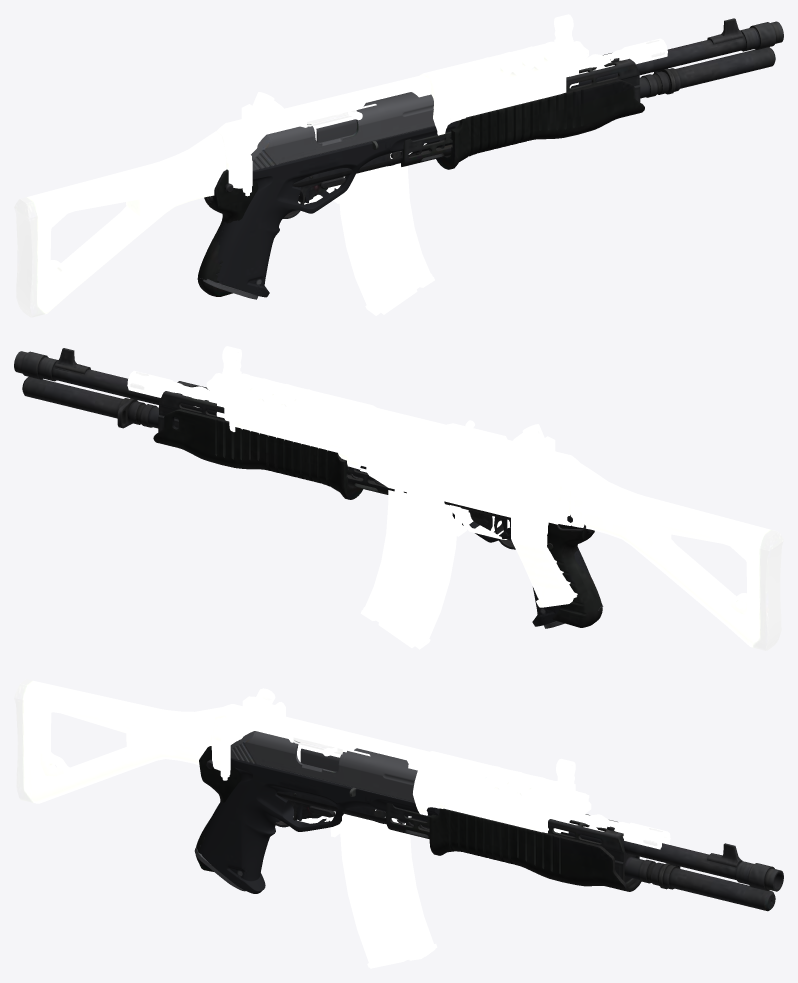
The model's file is weapons_hd.glb.
The picture shows the model from 3 angles, top to bottom: view 1: azimuth 30°, elevation 25°; view 2: azimuth 150°, elevation 25°; view 3: azimuth 330°, elevation 25°; orthographic projection.
Parts seen in each view (by area): view 1: W1, W2, W0; view 2: W1, W2, W0; view 3: W1, W2, W0.
Boxes of the visible parts, <box> form: W1: <box>14,14,667,317</box>; W2: <box>197,18,783,296</box>; W0: <box>200,92,457,299</box>; W1: <box>127,346,783,650</box>; W2: <box>14,348,602,627</box>; W0: <box>452,513,603,628</box>; W1: <box>14,679,670,968</box>; W2: <box>195,746,783,911</box>; W0: <box>194,731,439,893</box>.
Bounding box in the file's own units: 70.68 × 22.32 × 5.11.
Materials: 3 (3 with a texture image).
